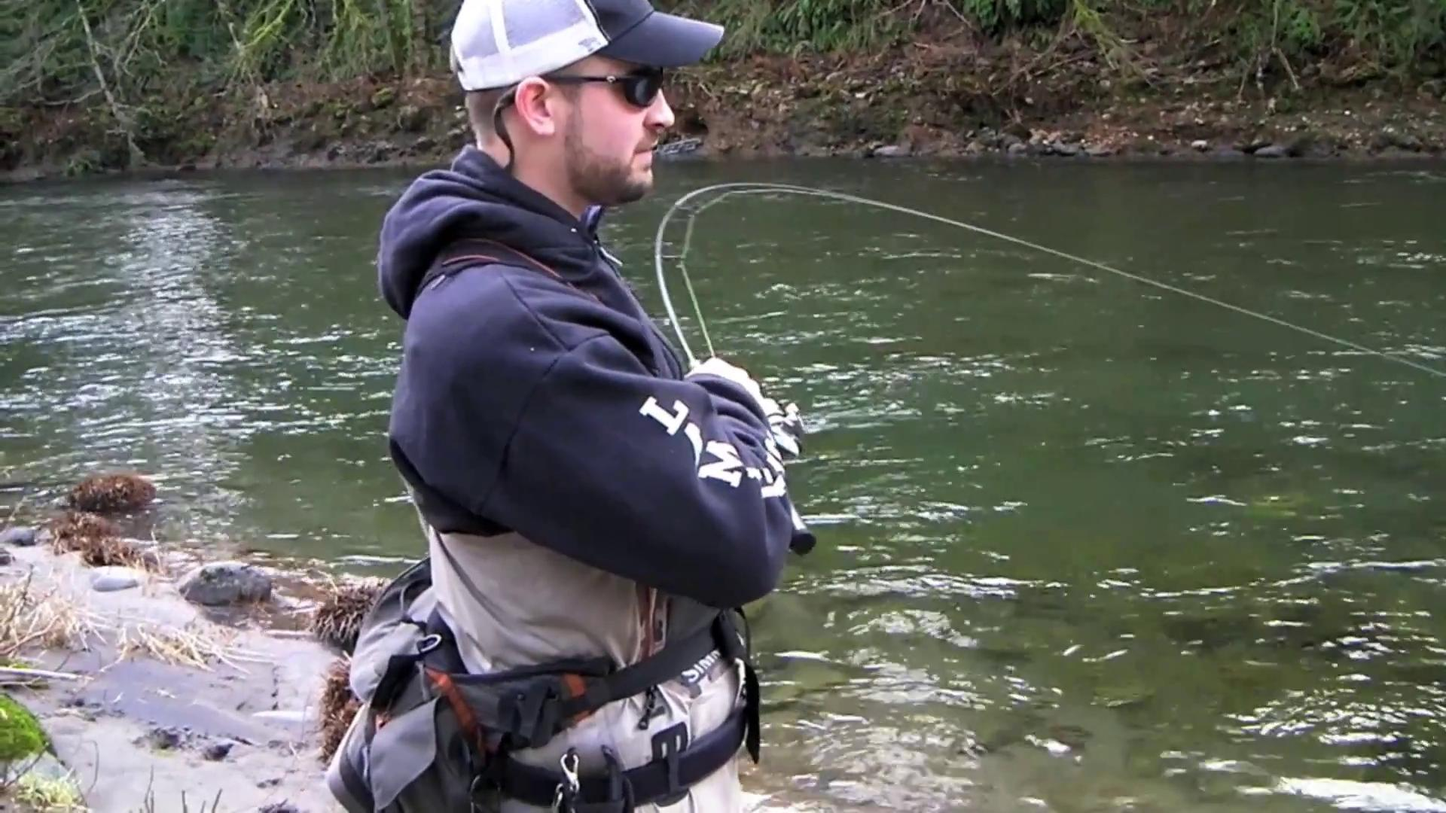victim: (378, 3, 802, 810)
